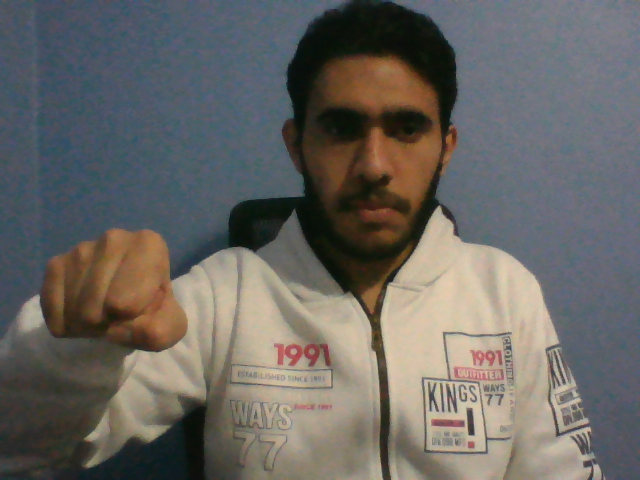yes: (31, 220, 195, 360)
